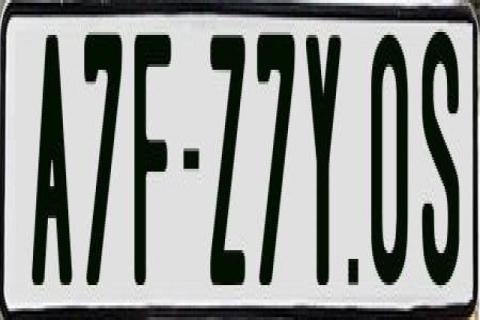0: (254, 27, 296, 286), (85, 32, 123, 300), (369, 32, 406, 291)
A: (29, 29, 75, 291)
F: (134, 29, 176, 285)
S: (419, 29, 462, 285)
Y: (303, 32, 341, 294)
Z: (207, 27, 248, 280)
